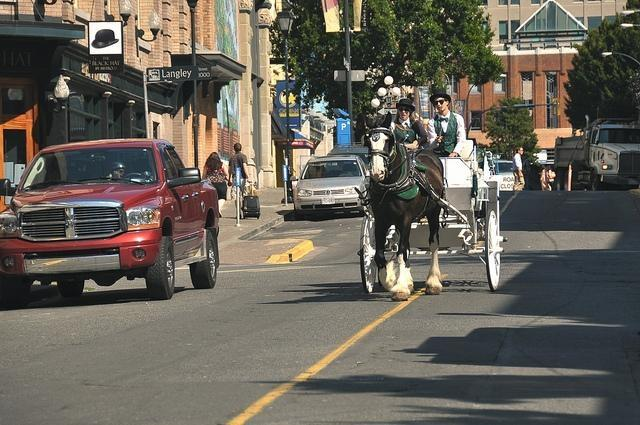car: (290, 155, 371, 220), (326, 148, 369, 172)
truck: (1, 138, 221, 305), (554, 114, 640, 190)
